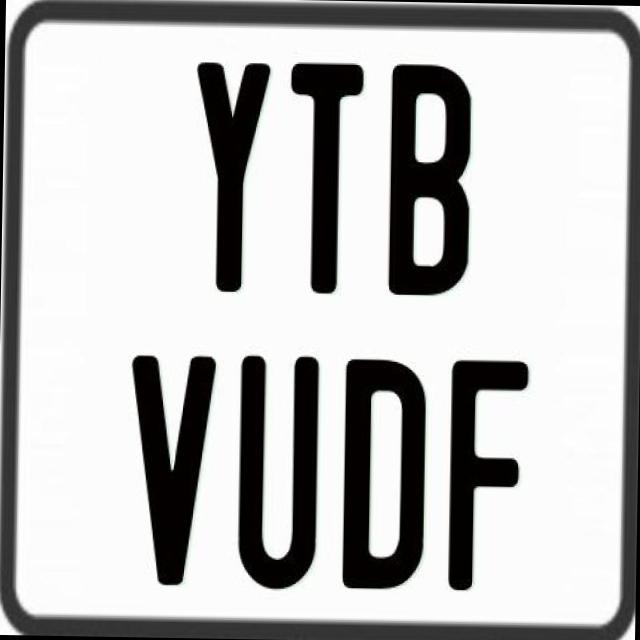B: (388, 61, 476, 300)
D: (341, 357, 429, 595)
F: (446, 356, 533, 592)
T: (287, 57, 371, 298)
U: (234, 354, 321, 588)
V: (125, 354, 213, 590)
Y: (188, 57, 268, 292)
